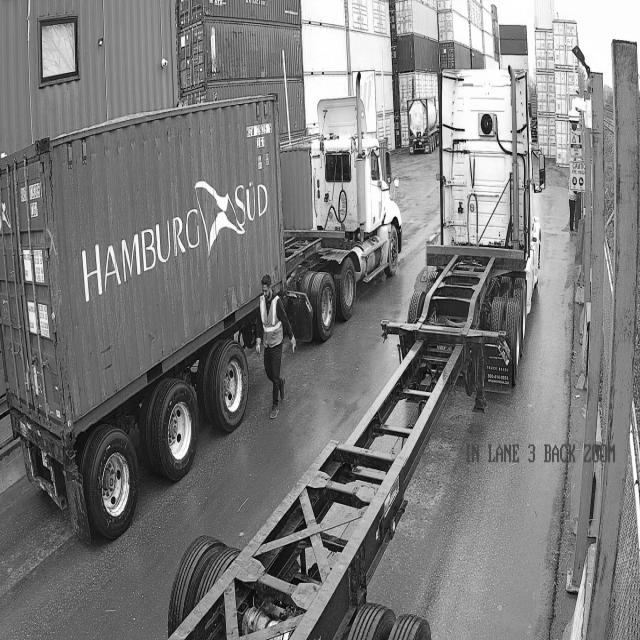container_company_logo: (78, 163, 271, 315)
driver: (256, 275, 296, 418)
truck_with_container: (0, 94, 402, 542)
truck_without_container: (168, 69, 545, 639)
